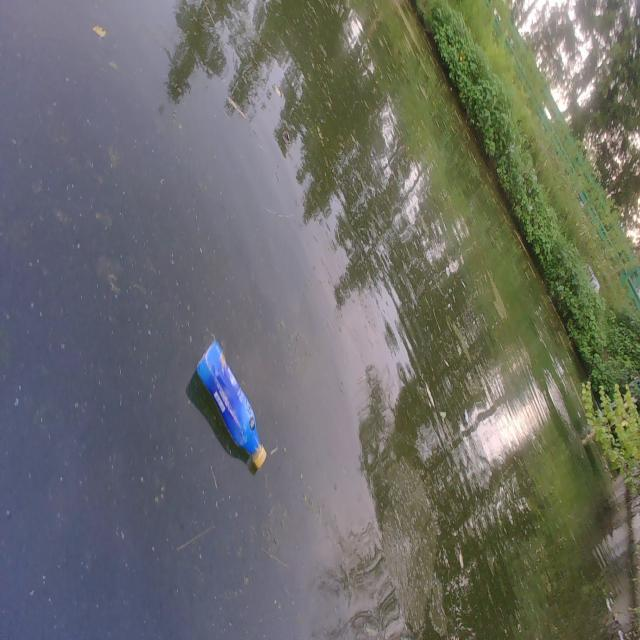garbage: (196, 338, 268, 474)
